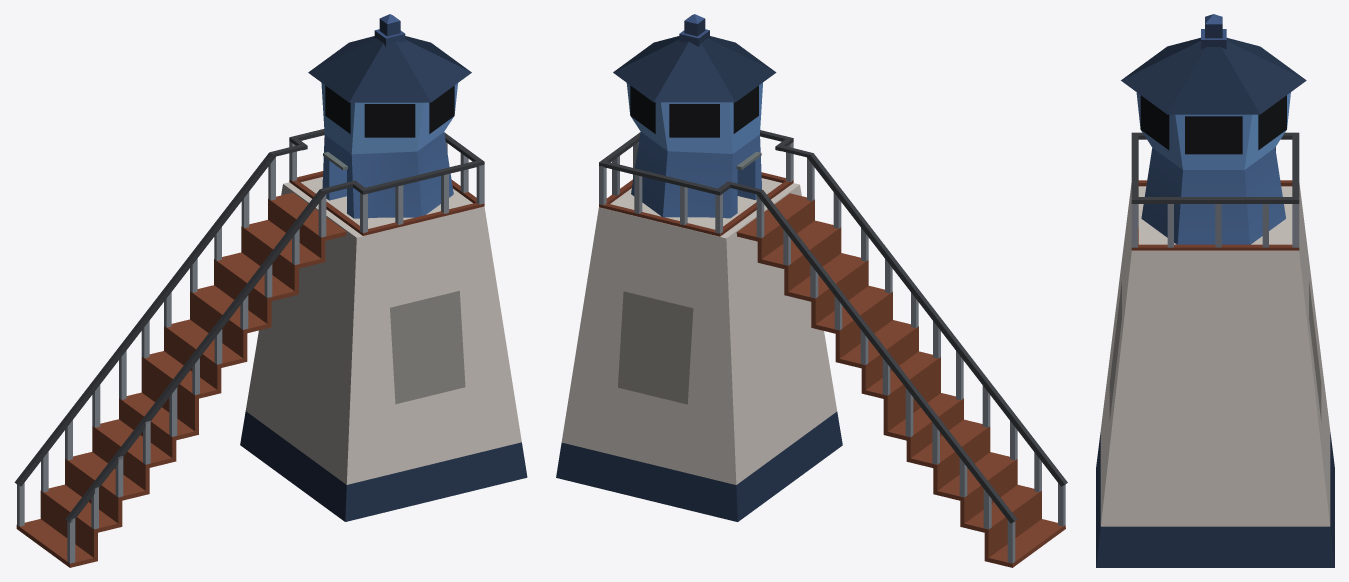
Rendered from WatchTower001.fbx.
The picture shows the model from 3 angles, left to right: view 1: azimuth 30°, elevation 25°; view 2: azimuth 150°, elevation 25°; view 3: azimuth 270°, elevation 25°; orthographic projection. The views are drawn at different scales.
Visible parts, largest first — view 1: WatchTower; view 2: WatchTower; view 3: WatchTower.
Boxes of the visible parts, box(x1,y1,x2,y2) form: WatchTower: box(14, 14, 527, 567); WatchTower: box(556, 14, 1067, 567); WatchTower: box(1096, 14, 1334, 567).
Size of the model in its own units: 473 by 470 by 199.
